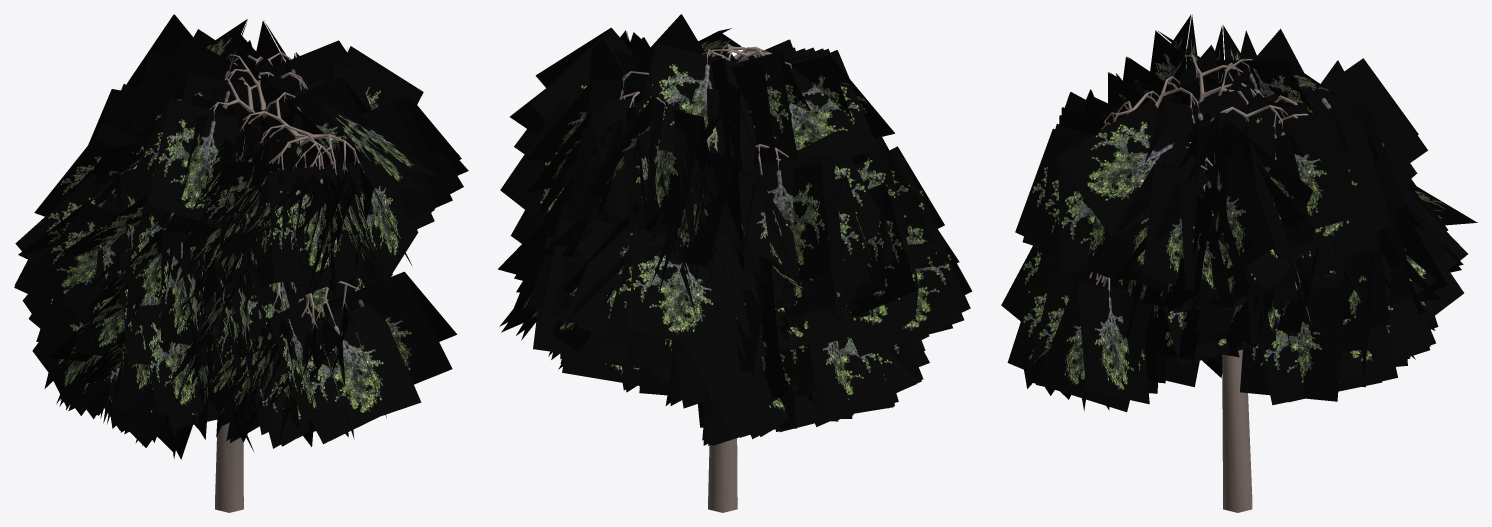
Rendered from tree.glb.
The picture shows the model from 3 angles, left to right: view 1: azimuth 30°, elevation 25°; view 2: azimuth 150°, elevation 25°; view 3: azimuth 270°, elevation 25°; orthographic projection. The views are drawn at different scales.
Parts seen in each view (by area): view 1: Mesh_1, Mesh_0; view 2: Mesh_1, Mesh_0; view 3: Mesh_1, Mesh_0.
Part boxes in pixels (bbox=[...]): Mesh_1: bbox=[14, 14, 468, 459]; Mesh_0: bbox=[132, 52, 361, 512]; Mesh_1: bbox=[498, 14, 972, 445]; Mesh_0: bbox=[619, 43, 791, 512]; Mesh_1: bbox=[1001, 14, 1477, 412]; Mesh_0: bbox=[1089, 54, 1314, 512].
Size of the model in its own units: 5.57 by 5.78 by 5.36.
Materials: 2 (1 with a texture image).
